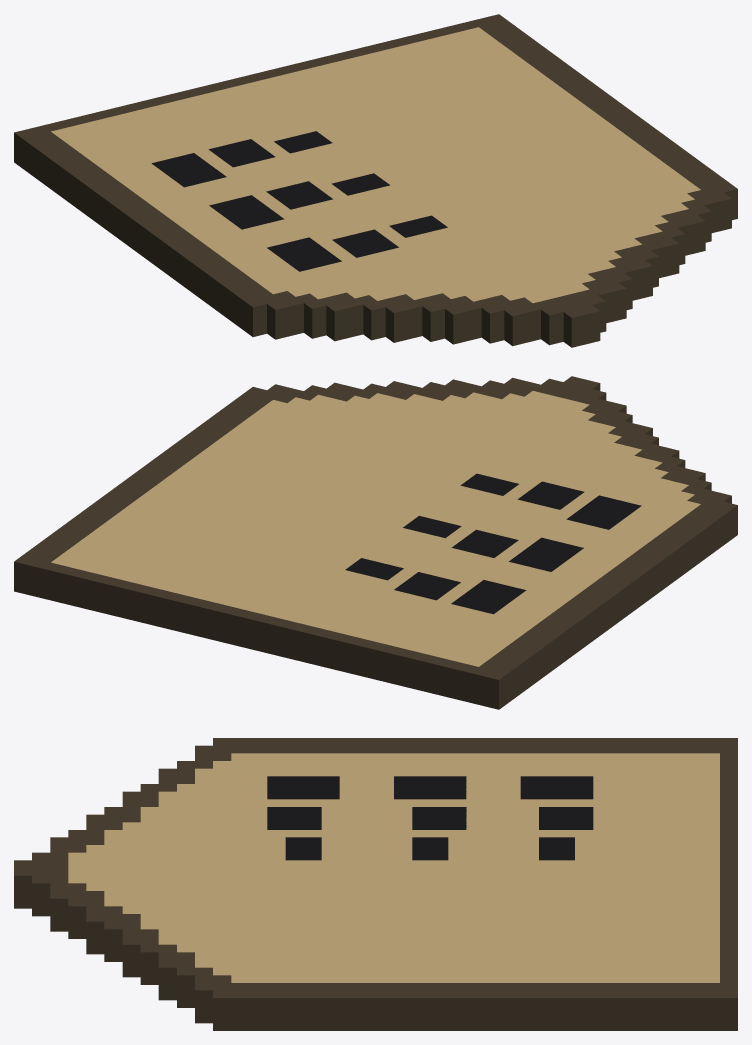
File: badge_cardboard.glb
3 renders of one model, top to bottom at view 1: azimuth 30°, elevation 25°; view 2: azimuth 150°, elevation 25°; view 3: azimuth 270°, elevation 25°, orthographic. The views are drawn at different scales.
Parts seen in each view (by area): view 1: badge_cardboard:compound; view 2: badge_cardboard:compound; view 3: badge_cardboard:compound.
Boxes of the visible parts, x1,y1,x2,y2 form: badge_cardboard:compound: (14,14,737,347); badge_cardboard:compound: (14,376,737,709); badge_cardboard:compound: (14,738,737,1030).
Size of the model in its own units: 0.068 by 0.008 by 0.08.
